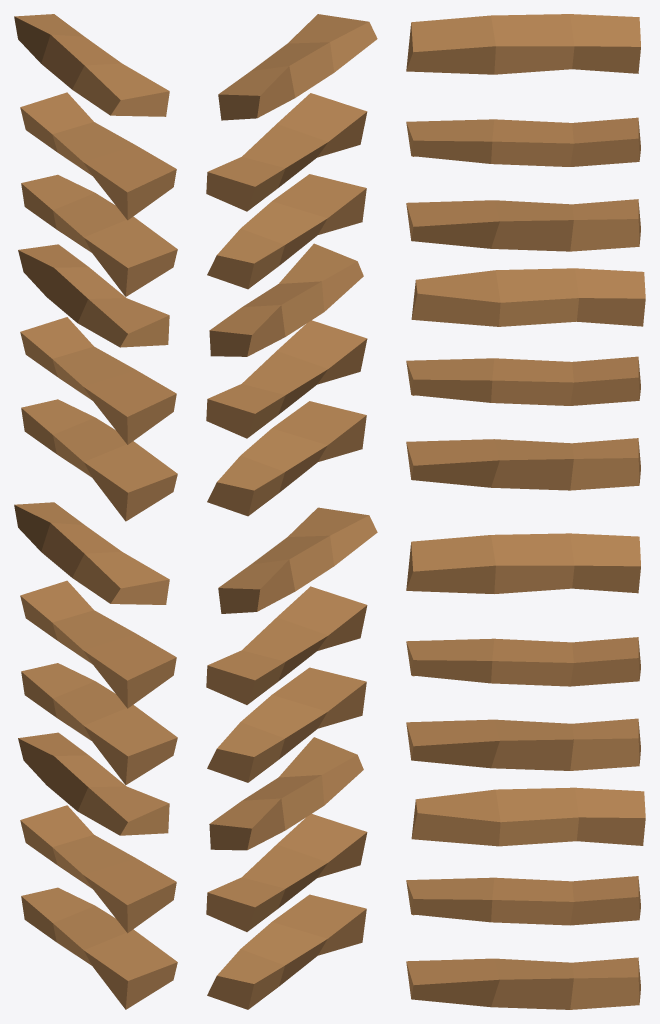
Rendered from Boat_Ladder.fbx.
3 renders of one model, left to right at view 1: azimuth 30°, elevation 25°; view 2: azimuth 150°, elevation 25°; view 3: azimuth 270°, elevation 25°, orthographic. The views are drawn at different scales.
Parts seen in each view (by area): view 1: Boat_Ladder; view 2: Boat_Ladder; view 3: Boat_Ladder.
Part boxes in pixels (<box>): Boat_Ladder: <box>14,14,177,1009</box>; Boat_Ladder: <box>206,14,377,1009</box>; Boat_Ladder: <box>406,14,645,1009</box>.
Size of the model in its own units: 209 by 72.27 by 944.
